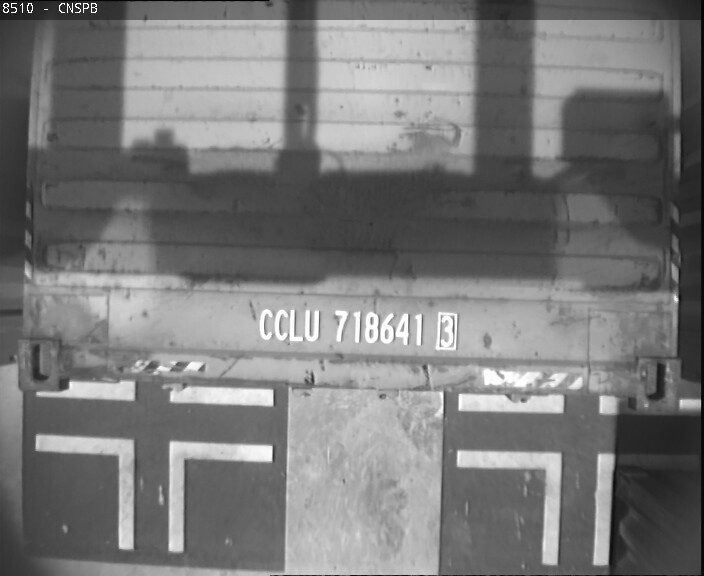groundmarker_1: (34, 433, 273, 555), (457, 450, 696, 565)
